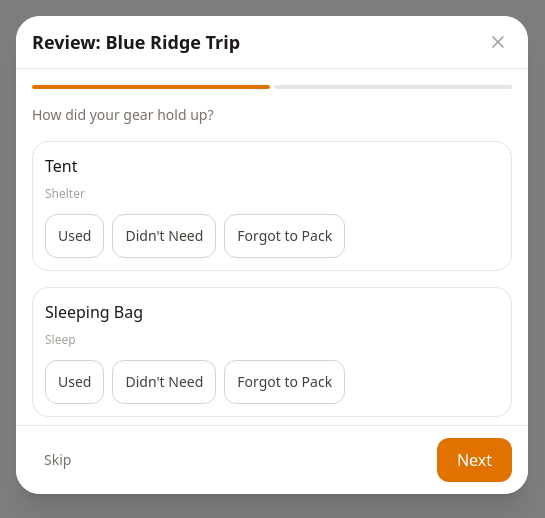
Scenario: REV-08: Spot rating absent when locationId is null › still shows notes textarea when locationId is null
The image size is (545, 518).
Step 1. Click the button "Next" → (474,460), box [437,438,512,482]
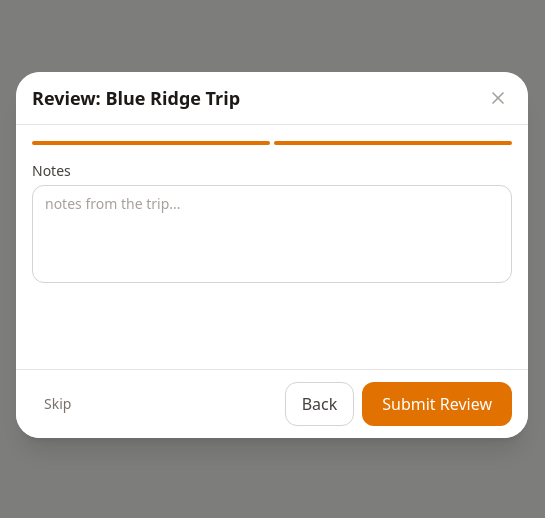
Result: the text box with placeholder "notes from the trip..." is shown at [32,185,512,283]
